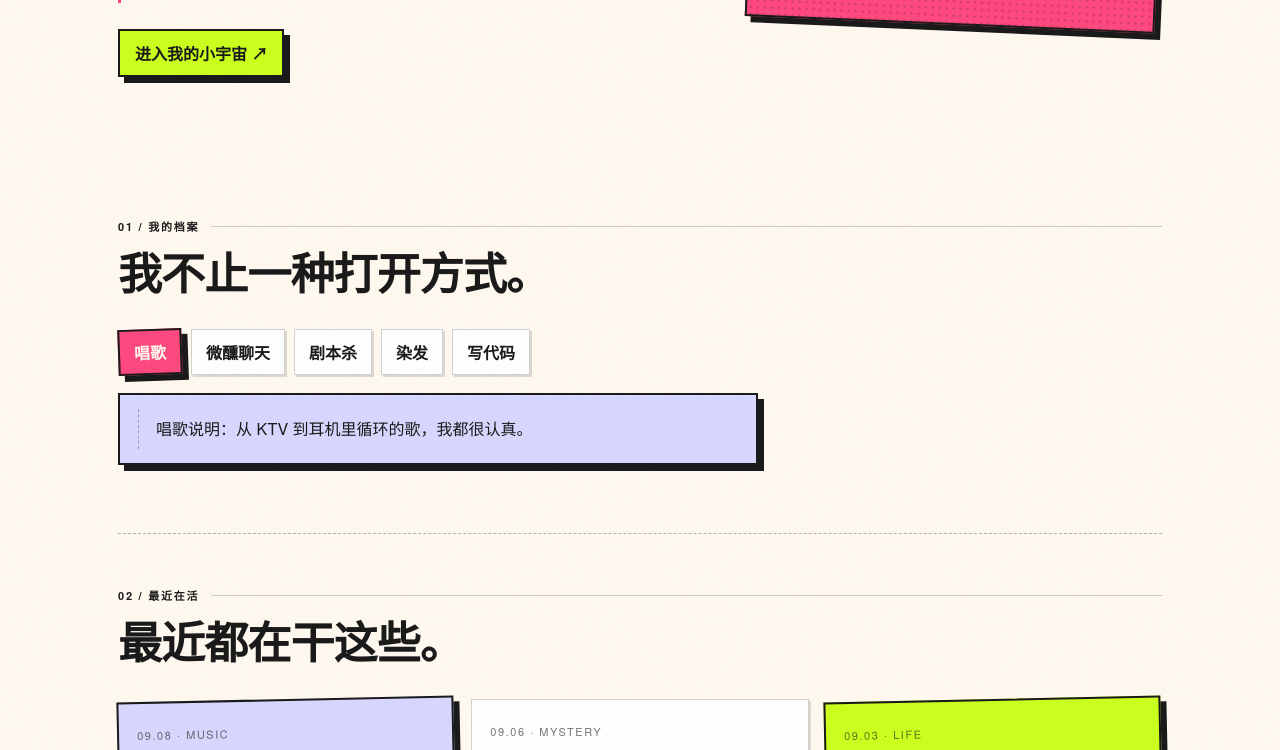
switches the visible interest archive description
The width and height of the screenshot is (1280, 750).
(page scrolled)
Click the button "剧本杀": (333, 352) [294,329,372,375]
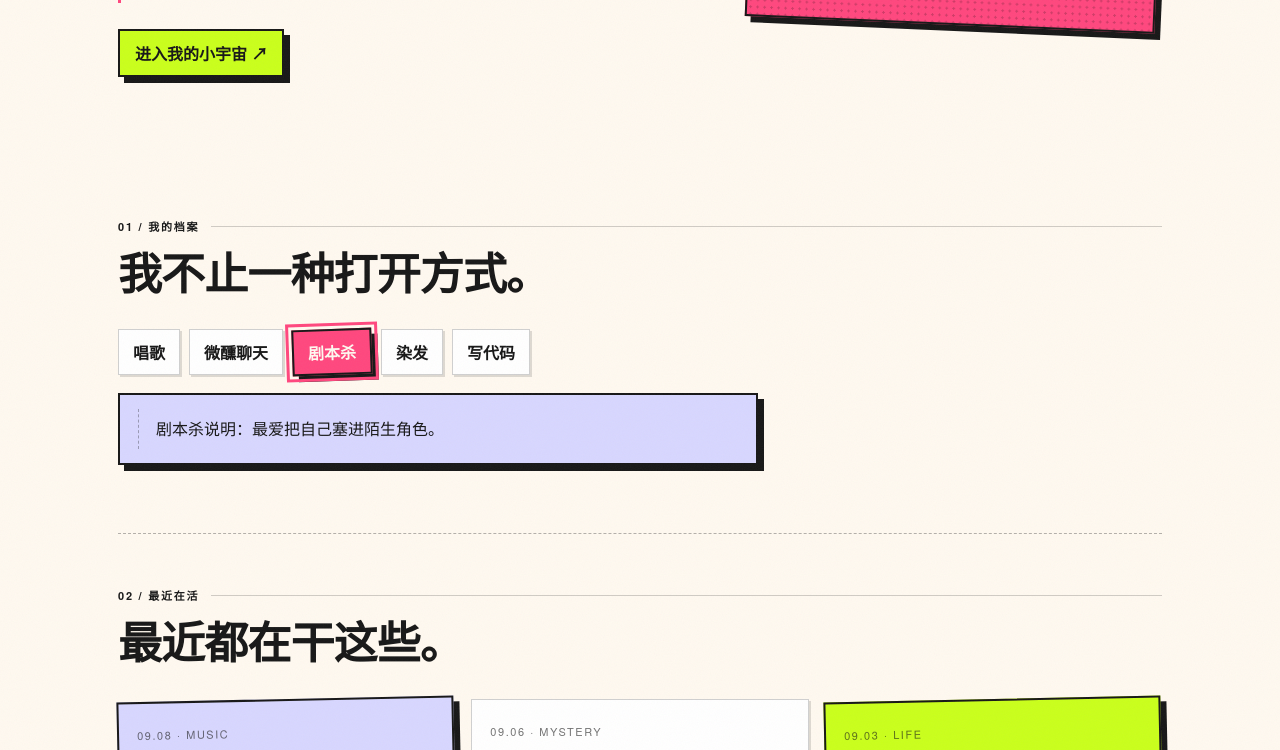
Result: the text "剧本杀说明：最爱把自己塞进陌生角色。" is shown at [118,393,758,465]
